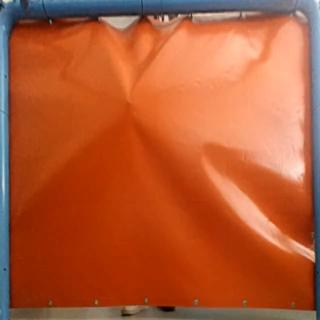Hit-hRxx: (121, 92, 138, 111)
